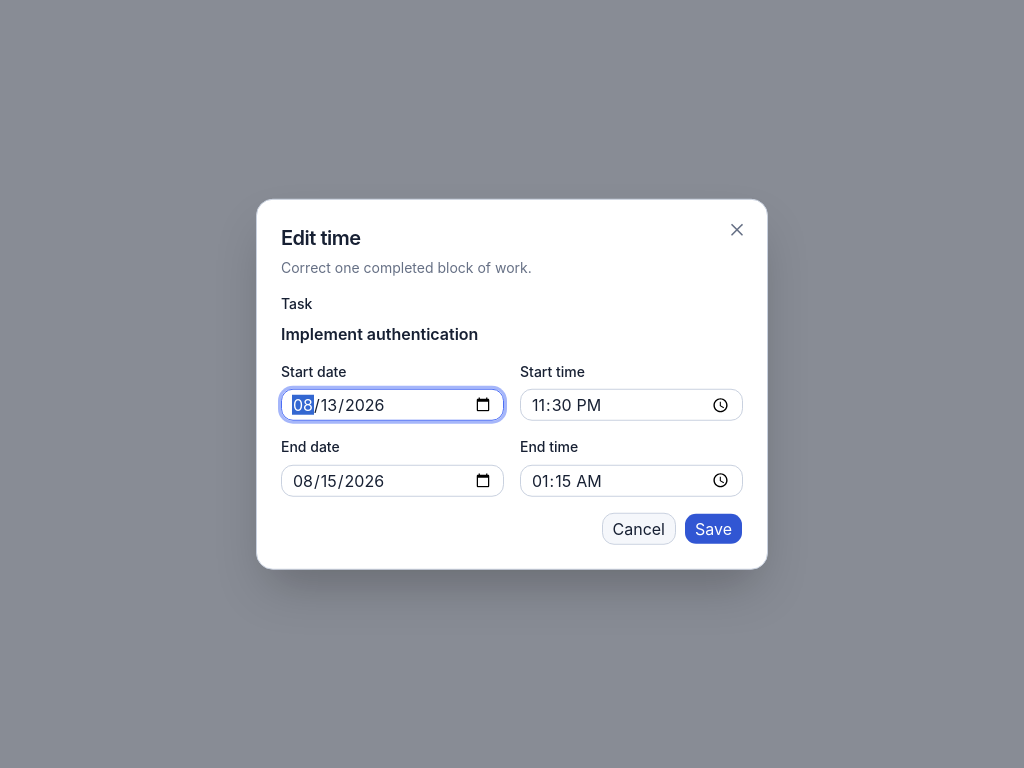
Test: EditIntervalDialog › does not expose edit-specific guidance for an unexpected overlap result
Replace the text in the time field labelled "Start time" with "22:45" at point(632, 405), box [520,389,743,421]
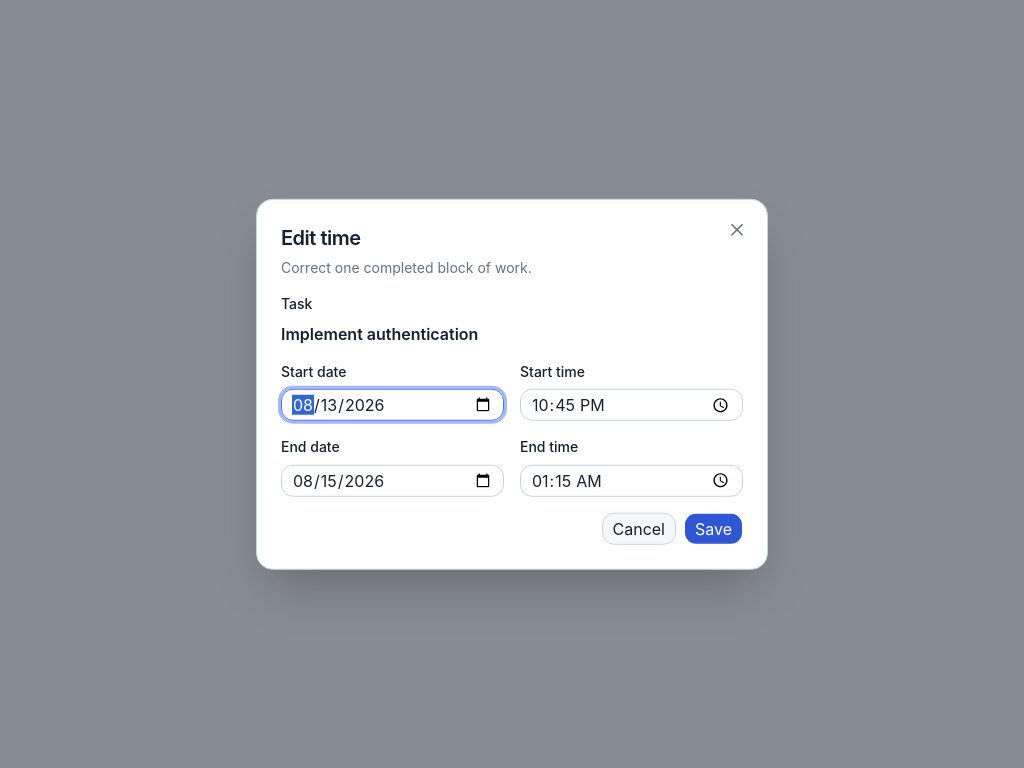
Click the button "Save".
click(714, 528)  # box [684,512,743,544]
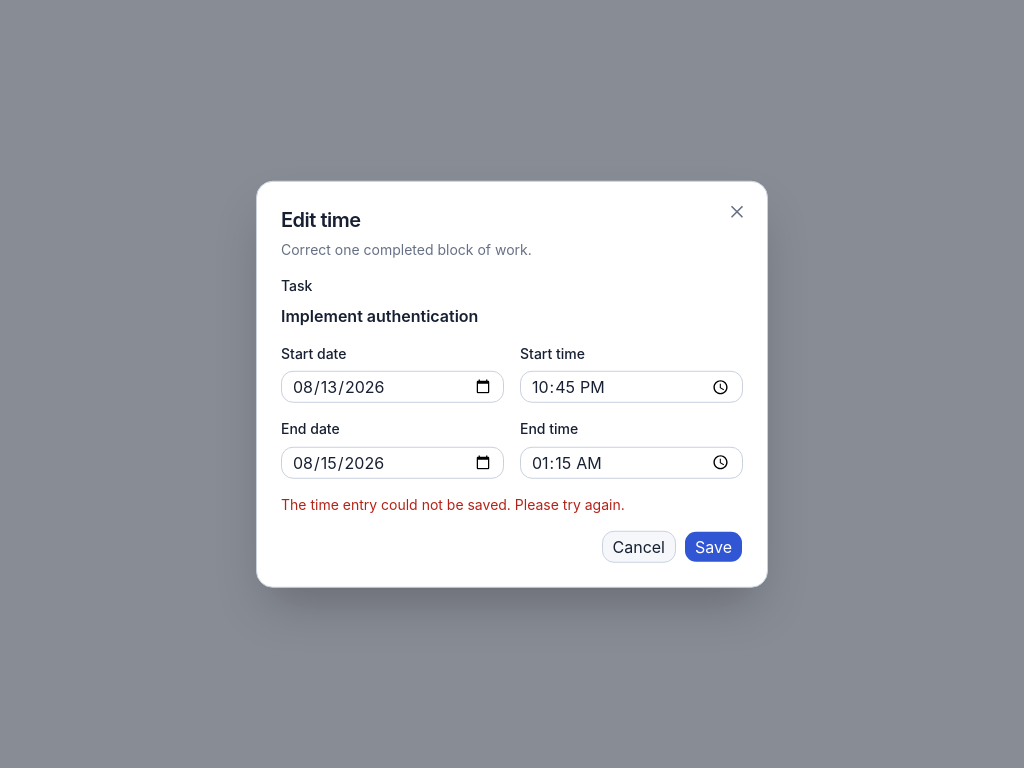
Expected: the message does not show "overlap", [281,495,625,512]
Expected: the message shows "could not be saved", [281,495,625,512]
